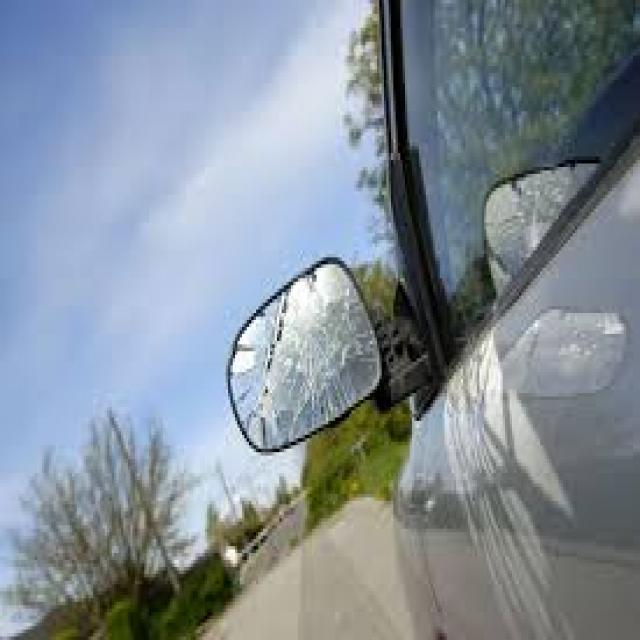minor: (200, 283, 387, 406)
